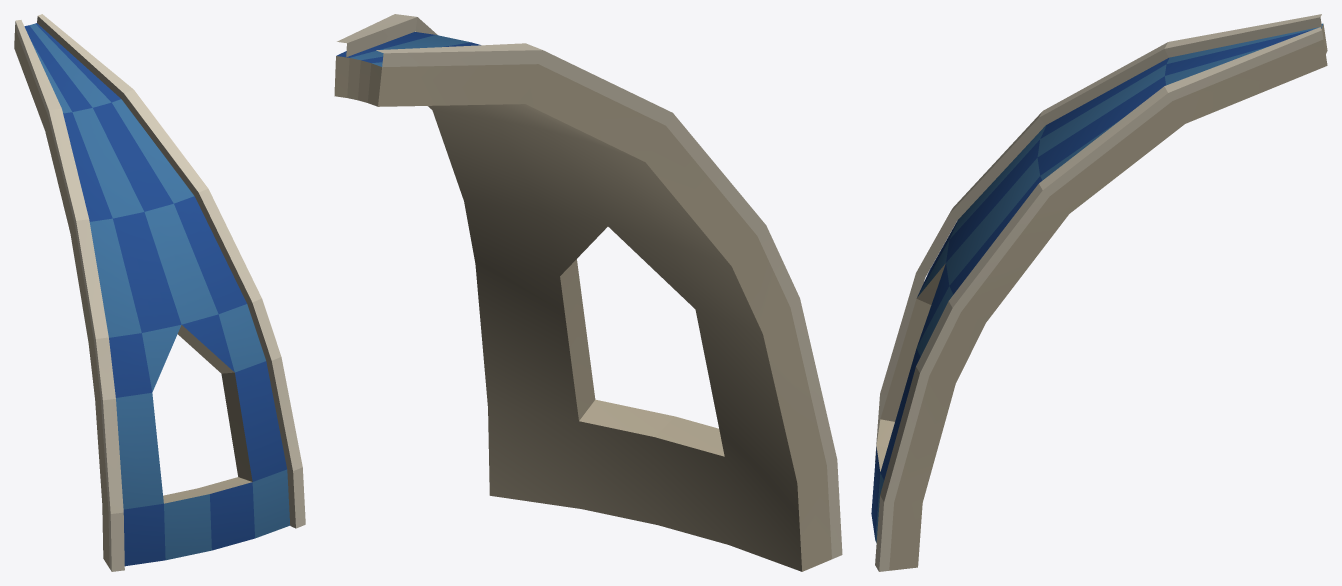
File: dome.panel_12_window.blue.glb
3 views of the same model, side by side, from view 1: azimuth 30°, elevation 25°; view 2: azimuth 150°, elevation 25°; view 3: azimuth 270°, elevation 25° (orthographic). The views are drawn at different scales.
Parts seen in each view (by area): view 1: dome_panel_12_window_blue; view 2: dome_panel_12_window_blue; view 3: dome_panel_12_window_blue.
Part boxes in pixels (bbox=[...]): dome_panel_12_window_blue: bbox=[14, 14, 305, 571]; dome_panel_12_window_blue: bbox=[334, 14, 842, 571]; dome_panel_12_window_blue: bbox=[871, 14, 1327, 571].
Size of what is drawn, in the model's own units: 1.85 by 3.63 by 3.06.
